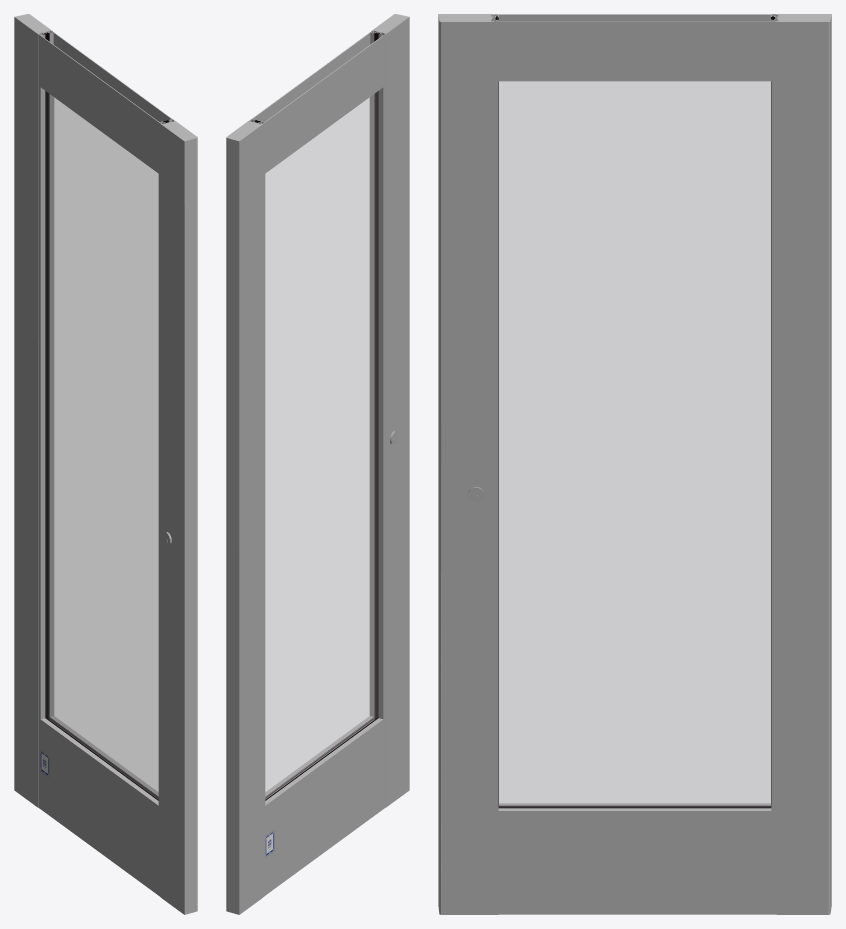
The model's file is D500_Slab_AL.glb.
3 views of the same model, side by side, from view 1: azimuth 30°, elevation 25°; view 2: azimuth 150°, elevation 25°; view 3: azimuth 270°, elevation 25° (orthographic). The views are drawn at different scales.
Parts seen in each view (by area): view 1: Cube.011, PROFILE_curve_.067, D500, PROFILE_curve_.066, PROFILE_curve_.065, rubber_curve_.071, rubber_curve_.072; view 2: Cube.011, D500, PROFILE_curve_.067, PROFILE_curve_.066, PROFILE_curve_.065, rubber_curve_.069, rubber_curve_.070; view 3: Cube.011, D500, PROFILE_curve_.067, PROFILE_curve_.066, PROFILE_curve_.065, rubber_curve_.067.
Boxes of the visible parts, box(x1,y1,x2,y2) form: Cube.011: box(45, 91, 158, 799); PROFILE_curve_.067: box(158, 119, 197, 914); D500: box(14, 14, 54, 808); PROFILE_curve_.066: box(40, 716, 158, 895); PROFILE_curve_.065: box(40, 32, 171, 173); rubber_curve_.071: box(46, 32, 49, 719); rubber_curve_.072: box(43, 33, 46, 717); Cube.011: box(265, 91, 378, 799); D500: box(226, 119, 265, 914); PROFILE_curve_.067: box(369, 14, 409, 808); PROFILE_curve_.066: box(265, 716, 383, 895); PROFILE_curve_.065: box(252, 32, 383, 173); rubber_curve_.069: box(374, 32, 377, 719); rubber_curve_.070: box(377, 33, 380, 717); Cube.011: box(499, 81, 770, 807); D500: box(771, 14, 831, 914); PROFILE_curve_.067: box(438, 14, 498, 914); PROFILE_curve_.066: box(498, 803, 771, 914); PROFILE_curve_.065: box(498, 14, 771, 81); rubber_curve_.067: box(499, 805, 770, 807).
Bounding box in the file's own units: 0.054 × 2.29 × 0.9144.
Materials: 5 (1 with a texture image).
